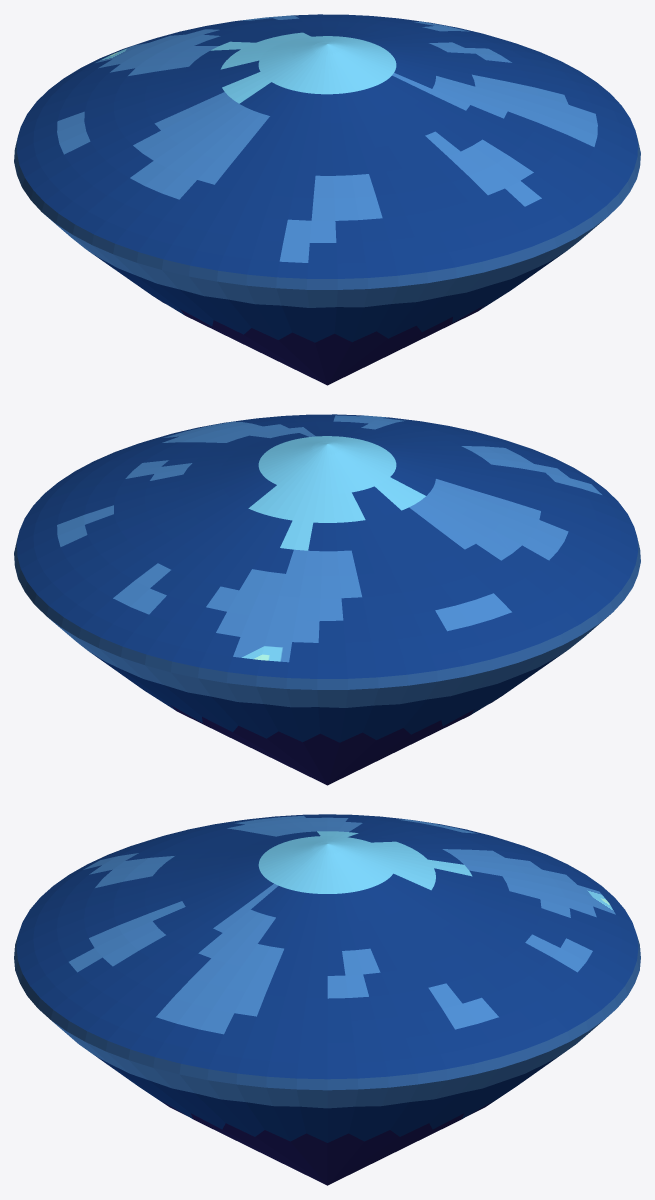
File: Diamond.fbx
The picture shows the model from 3 angles, top to bottom: view 1: azimuth 30°, elevation 25°; view 2: azimuth 150°, elevation 25°; view 3: azimuth 270°, elevation 25°; orthographic projection.
Parts seen in each view (by area): view 1: Cone; view 2: Cone; view 3: Cone.
Boxes of the visible parts, bbox=[...] form: Cone: bbox=[14, 14, 640, 385]; Cone: bbox=[14, 414, 640, 785]; Cone: bbox=[14, 814, 640, 1185].
Size of the model in its own units: 202 by 122 by 202.
